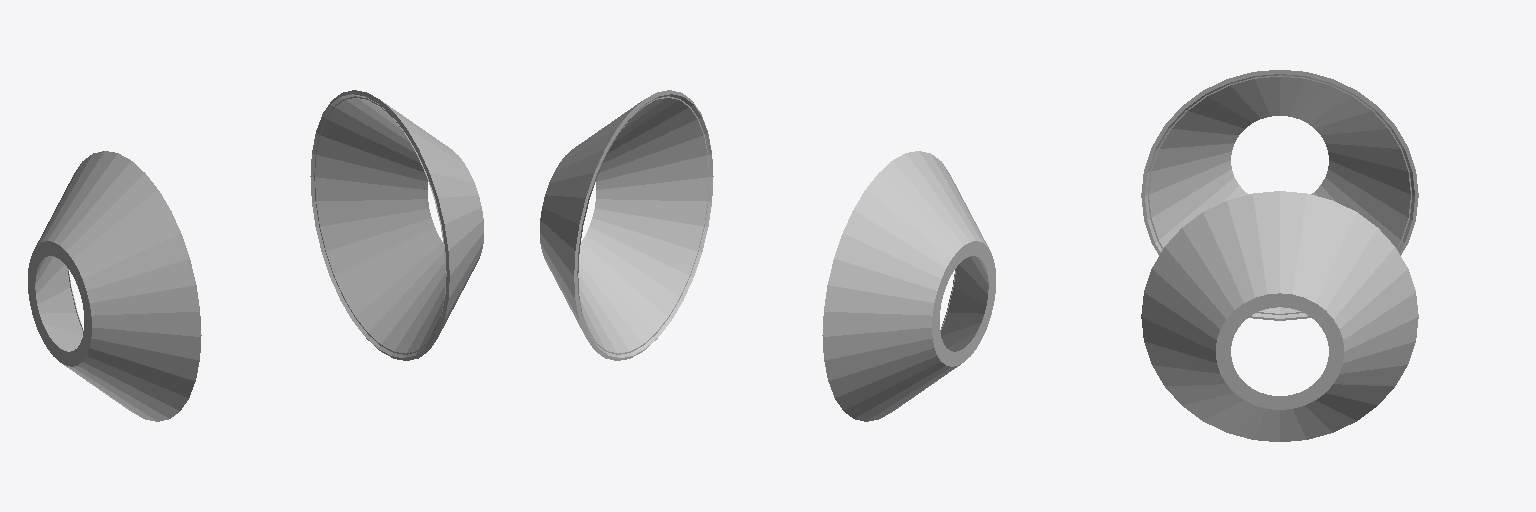
Rendered from FrontHubGuards2.obj.
The picture shows the model from 3 angles: view 1: azimuth 30°, elevation 25°; view 2: azimuth 150°, elevation 25°; view 3: azimuth 270°, elevation 25°; orthographic projection.
Parts seen in each view (by area): view 1: Both; view 2: Both; view 3: Both.
Boxes of the visible parts, x1=… form: Both: x1=28, y1=90, x2=483, y2=421; Both: x1=540, y1=90, x2=995, y2=421; Both: x1=1141, y1=70, x2=1418, y2=441.
Bounding box in the file's own units: 0.1099 × 0.0673 × 0.0673.